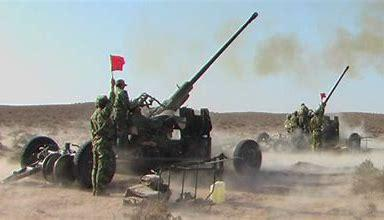MIL_SPG: (118, 13, 257, 172), (74, 142, 116, 192)
